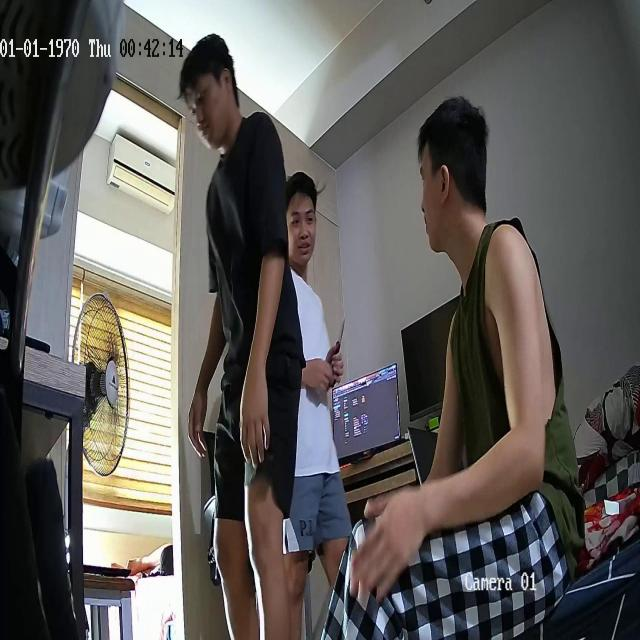scissor: (331, 320, 345, 390)
